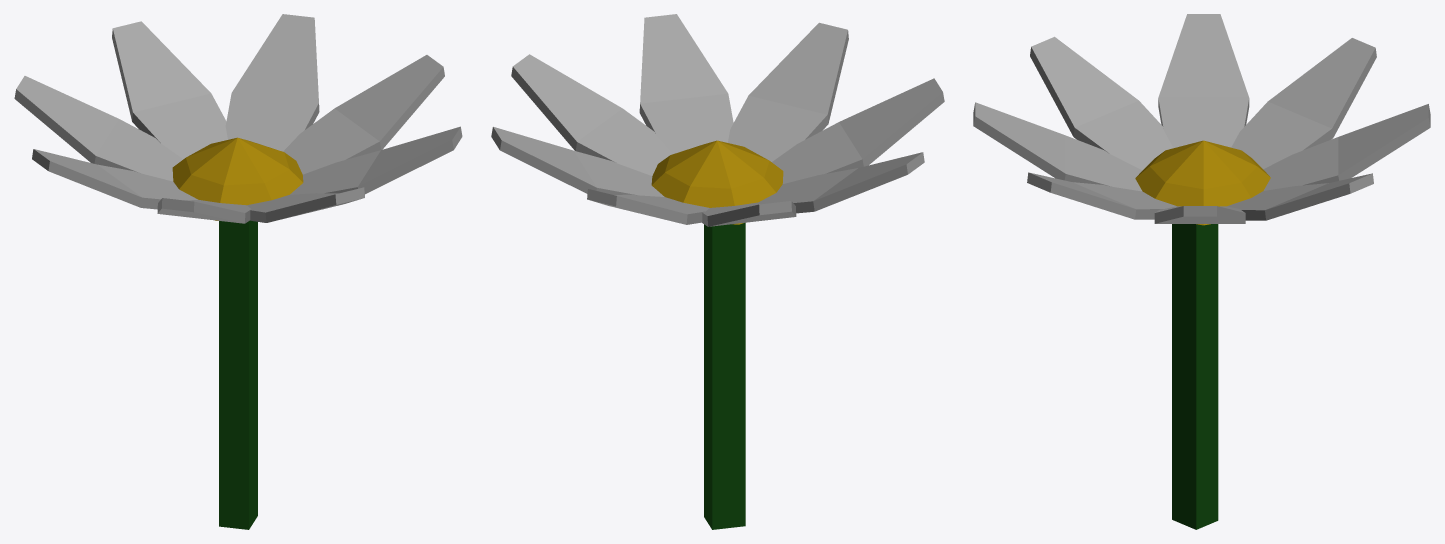
The model's file is yellowwhiteflower.obj.
The picture shows the model from 3 angles, left to right: view 1: azimuth 30°, elevation 25°; view 2: azimuth 150°, elevation 25°; view 3: azimuth 270°, elevation 25°; orthographic projection.
Parts seen in each view (by area): view 1: Cube_Cube.001; view 2: Cube_Cube.001; view 3: Cube_Cube.001.
Boxes of the visible parts, x1=… form: Cube_Cube.001: x1=14, y1=14, x2=462, y2=529; Cube_Cube.001: x1=491, y1=14, x2=944, y2=529; Cube_Cube.001: x1=973, y1=14, x2=1430, y2=529.
Bounding box in the file's own units: 0.1044 × 0.1036 × 0.1042.
